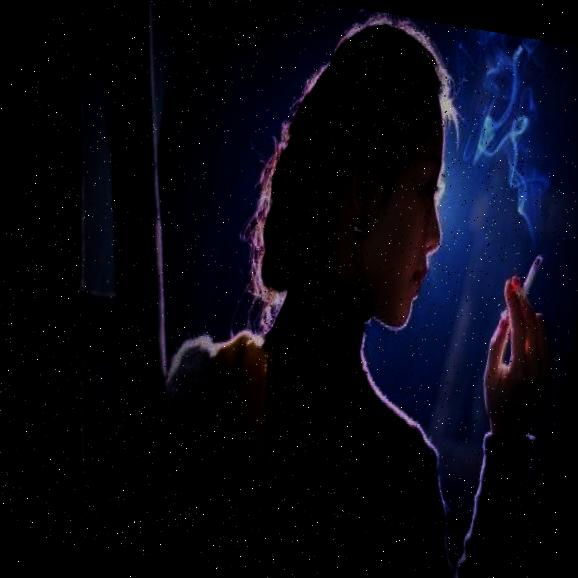smoke: (446, 29, 578, 237)
